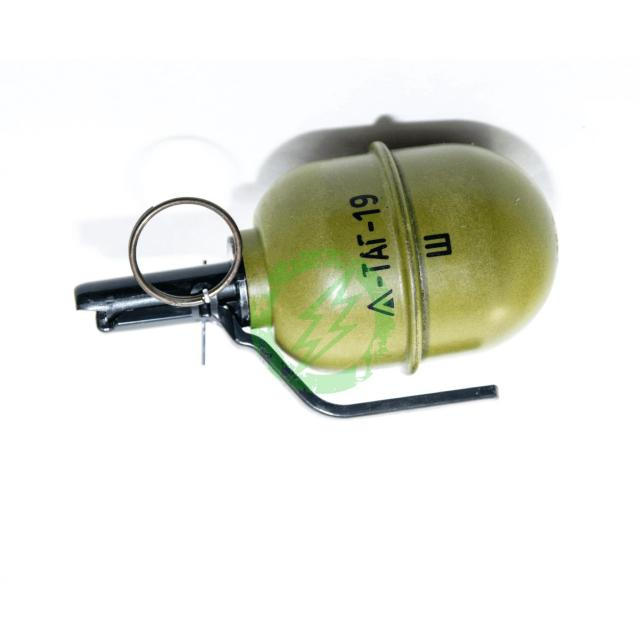grenade: (75, 144, 558, 423)
